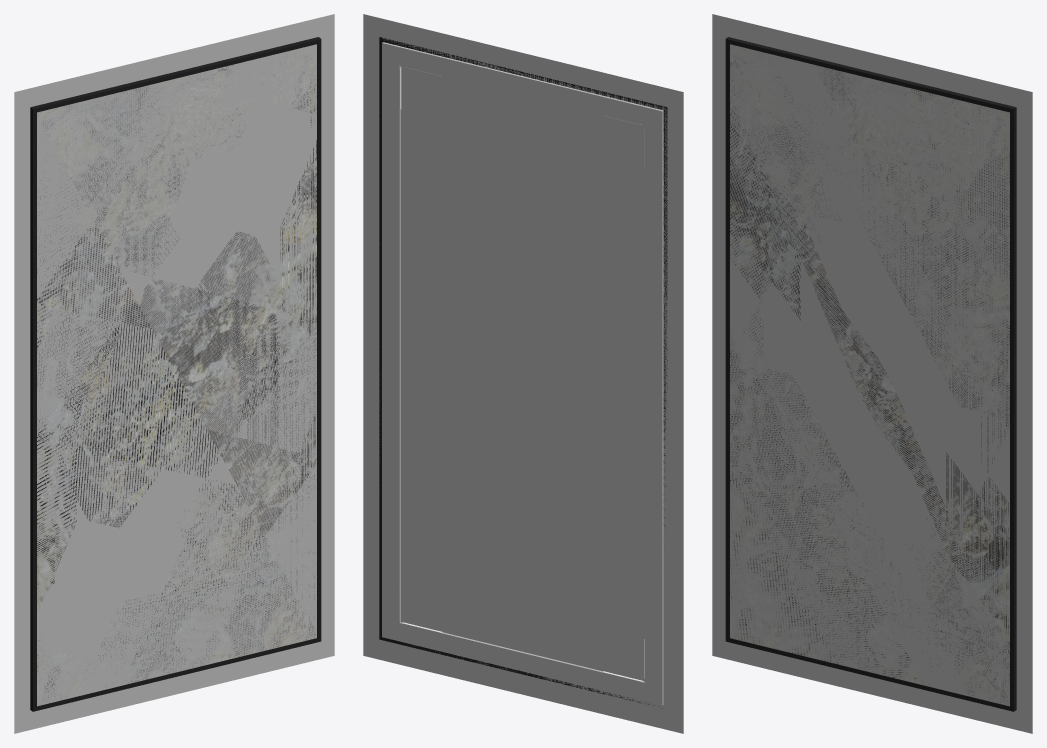
Rendered from Rock_sheet_DARKGOLD.dae.
3 views of the same model, side by side, from view 1: azimuth 30°, elevation 25°; view 2: azimuth 150°, elevation 25°; view 3: azimuth 330°, elevation 25° (orthographic).
Parts seen in each view (by area): view 1: group_14, image_0, group_6, group_4, group_5, group_7; view 2: image_0, group_1 (×2), group_4, group_5, group_6, group_7; view 3: group_14, image_0, group_4, group_6, group_5, group_7.
Boxes of the visible parts, left/top/right/bottom form: group_14: left=37, top=44, right=316, bottom=706; image_0: left=14, top=14, right=334, bottom=733; group_6: left=30, top=107, right=36, bottom=711; group_4: left=317, top=39, right=321, bottom=640; group_5: left=31, top=37, right=320, bottom=112; group_7: left=33, top=638, right=320, bottom=711; image_0: left=363, top=14, right=683, bottom=733; group_1 (×2): left=382, top=42, right=663, bottom=705; group_4: left=379, top=37, right=382, bottom=638; group_5: left=380, top=37, right=666, bottom=109; group_6: left=663, top=107, right=667, bottom=526; group_7: left=379, top=637, right=659, bottom=706; group_14: left=730, top=44, right=1009, bottom=706; image_0: left=712, top=14, right=1032, bottom=733; group_4: left=1010, top=107, right=1016, bottom=711; group_6: left=725, top=39, right=729, bottom=640; group_5: left=726, top=37, right=1015, bottom=112; group_7: left=726, top=638, right=1013, bottom=711.
Size of the model in its own units: 53.57 by 1.14 by 102.
